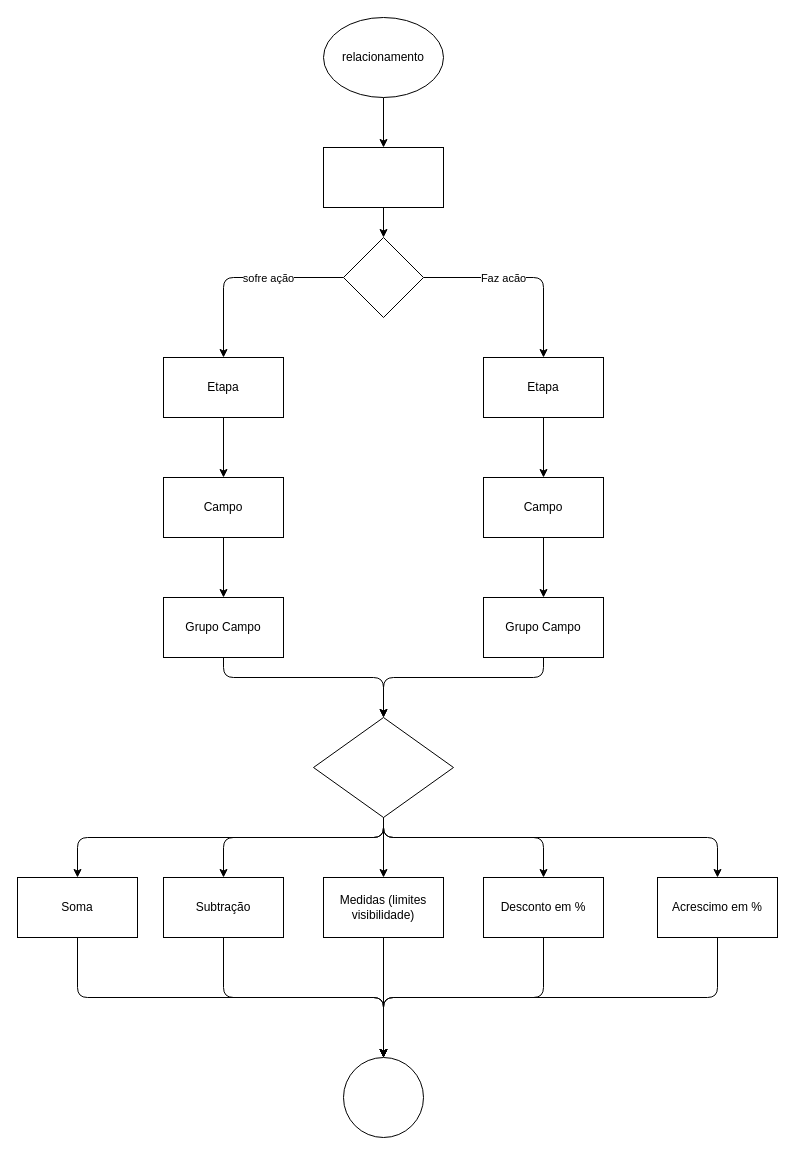
The diagram is 795 pixels wide and 1155 high, and some of its shapes have lost their labels. Here are the shapes that lost their labels. From the top down, the box of each, then its label:
(322, 146, 444, 208): Produtos
(342, 236, 424, 318): Relacionar
(312, 716, 454, 818): Configuração do Relacionamento
(342, 1056, 424, 1138): Salvar
